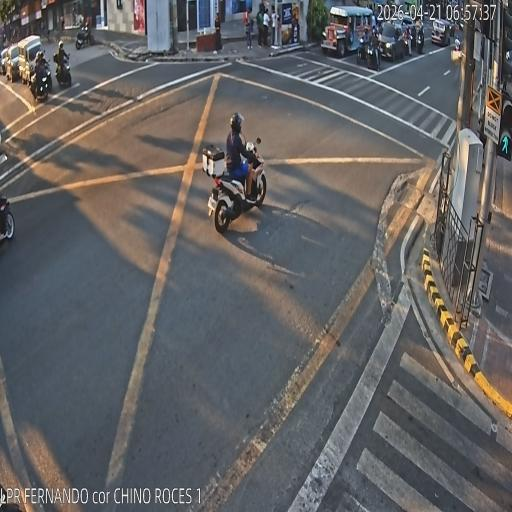Car: (17, 35, 43, 90), (380, 16, 405, 72), (6, 45, 25, 86), (0, 52, 10, 80)
Motor: (200, 102, 278, 238), (50, 41, 80, 101), (28, 56, 52, 106), (0, 187, 16, 256), (76, 14, 99, 56), (367, 28, 380, 71), (416, 20, 426, 62), (402, 20, 411, 61), (359, 22, 366, 59)
